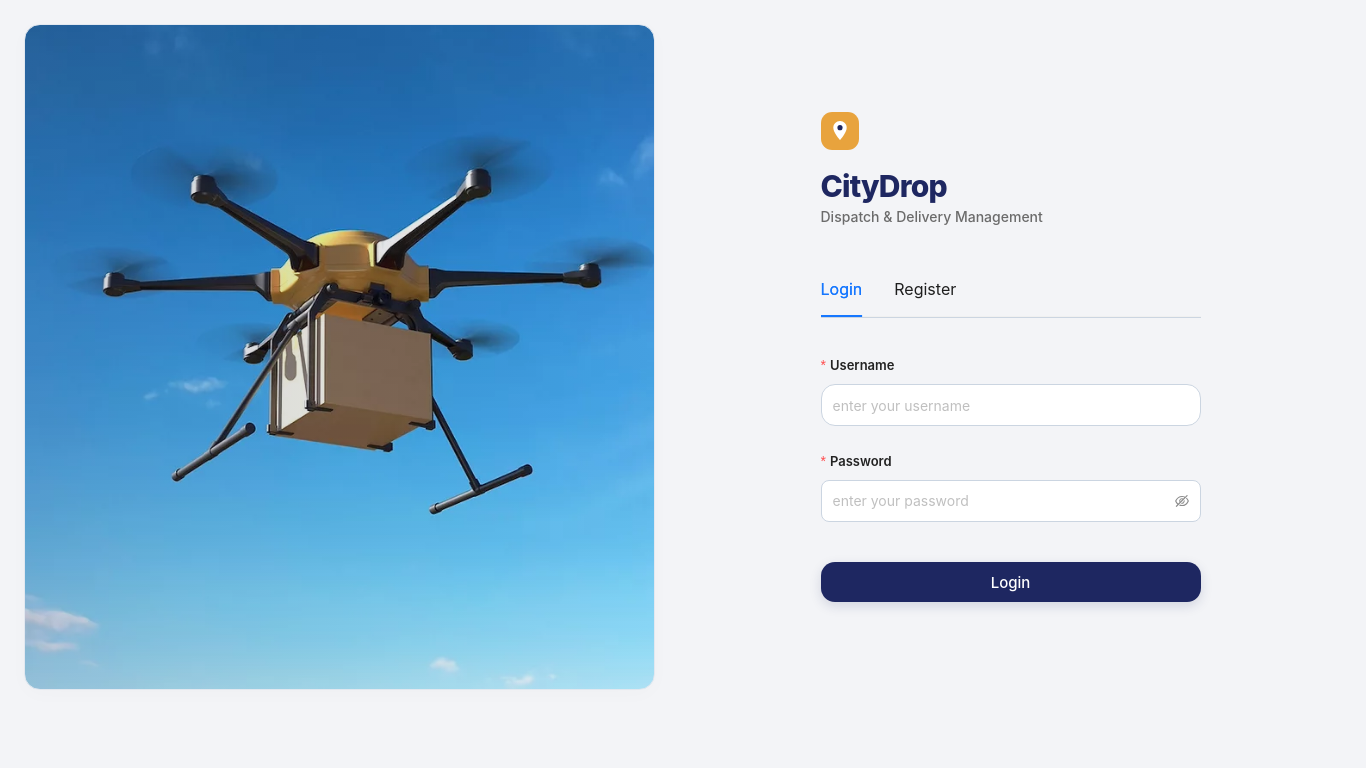
after registering, shows a confirmation and drops the user back on the Login tab
Click the tab "Register": click(925, 289) left=894, top=277, right=956, bottom=301
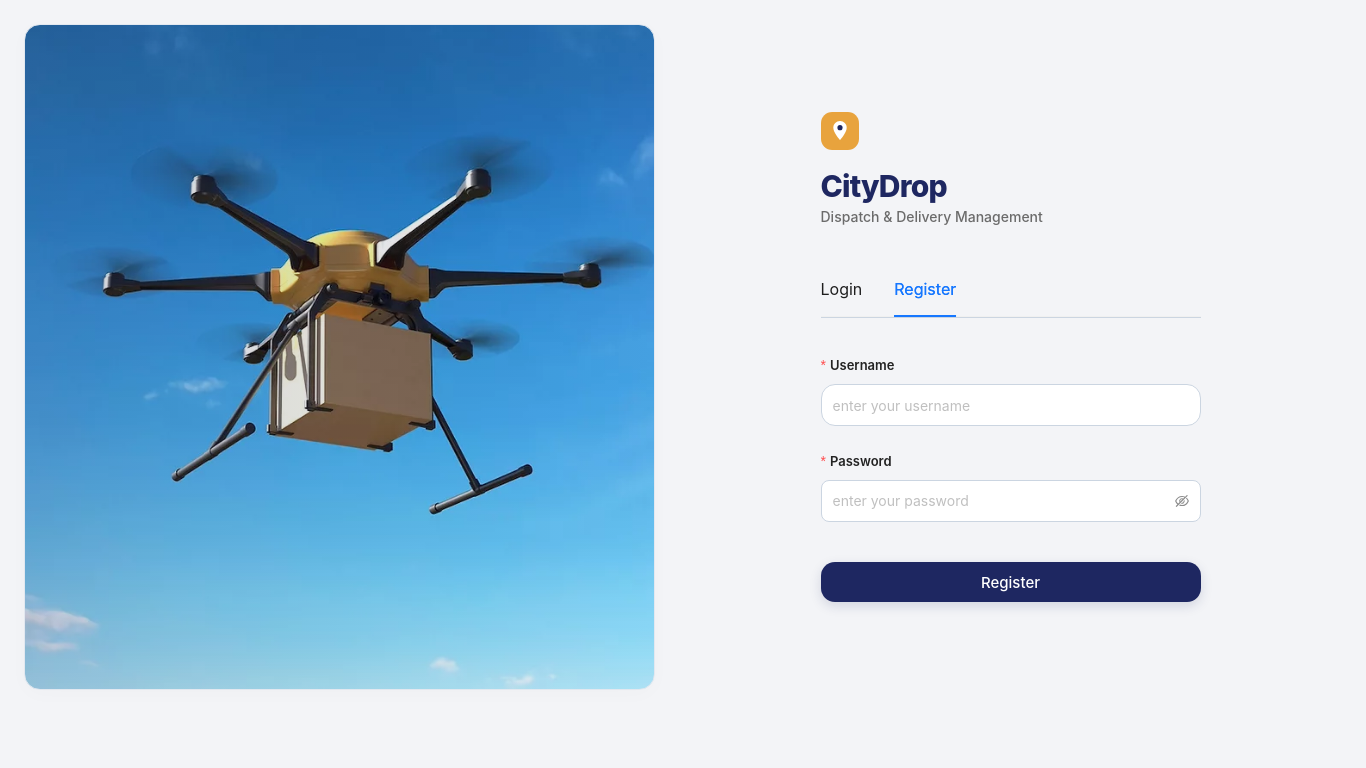
In the field with placeholder "enter your username": (1010, 405) left=820, top=384, right=1200, bottom=426, type "bob"
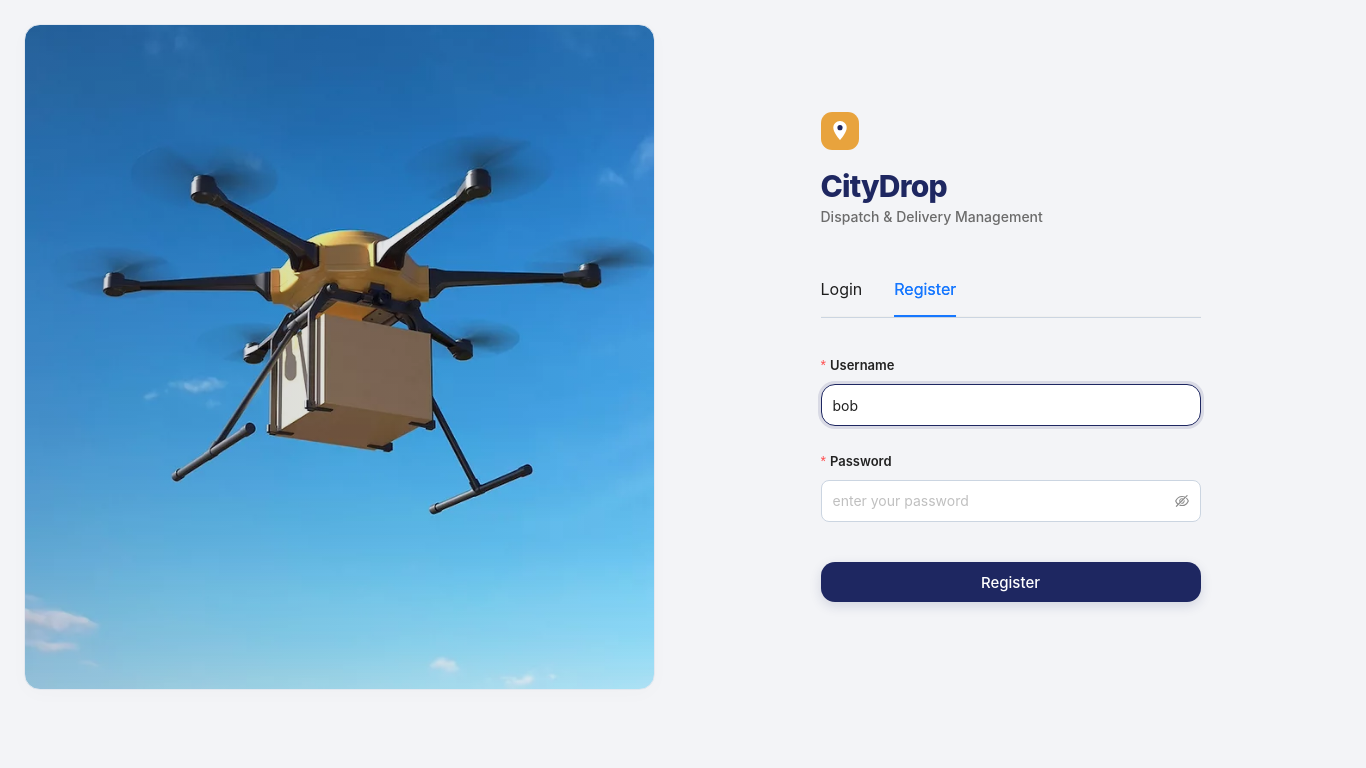
In the password field with placeholder "enter your password": (1002, 501) left=832, top=485, right=1170, bottom=517, type "pw123456"
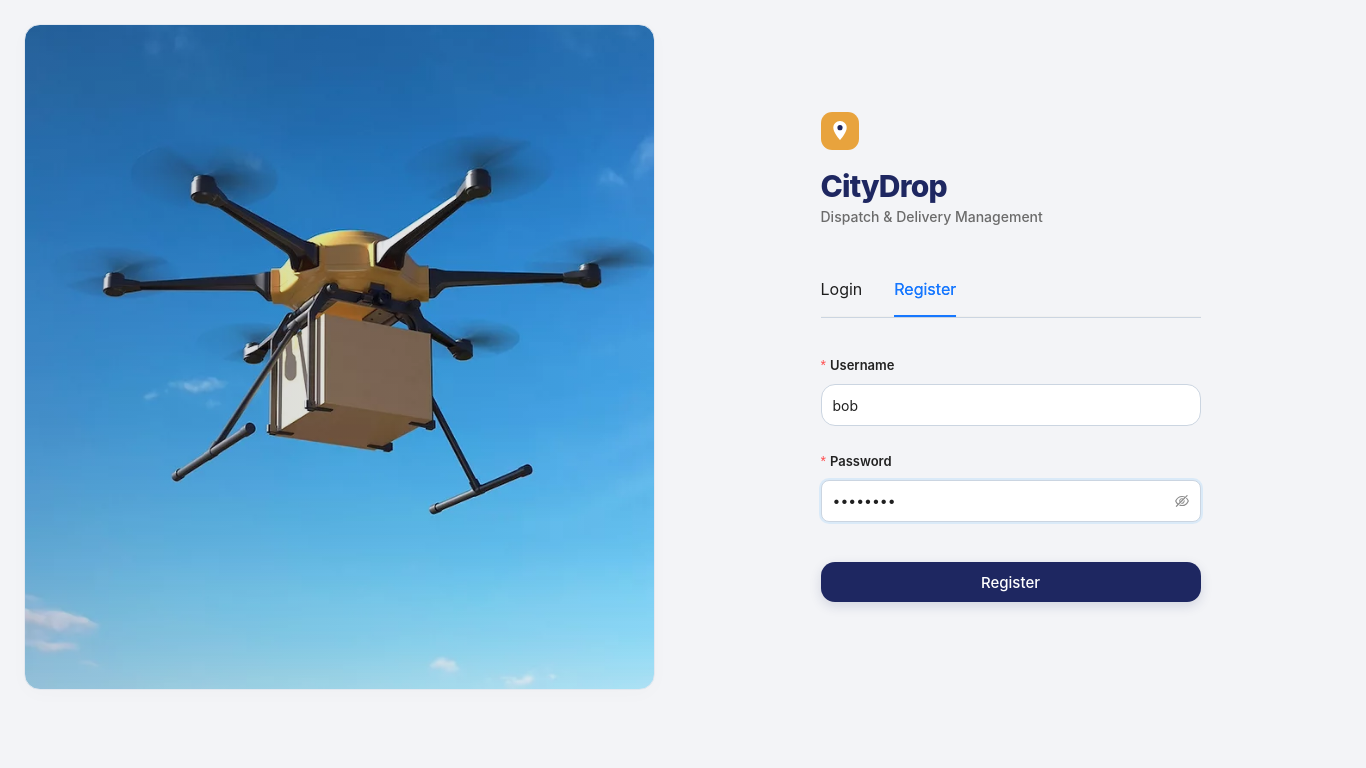
Click the button "Register": click(1010, 582) left=820, top=562, right=1200, bottom=602
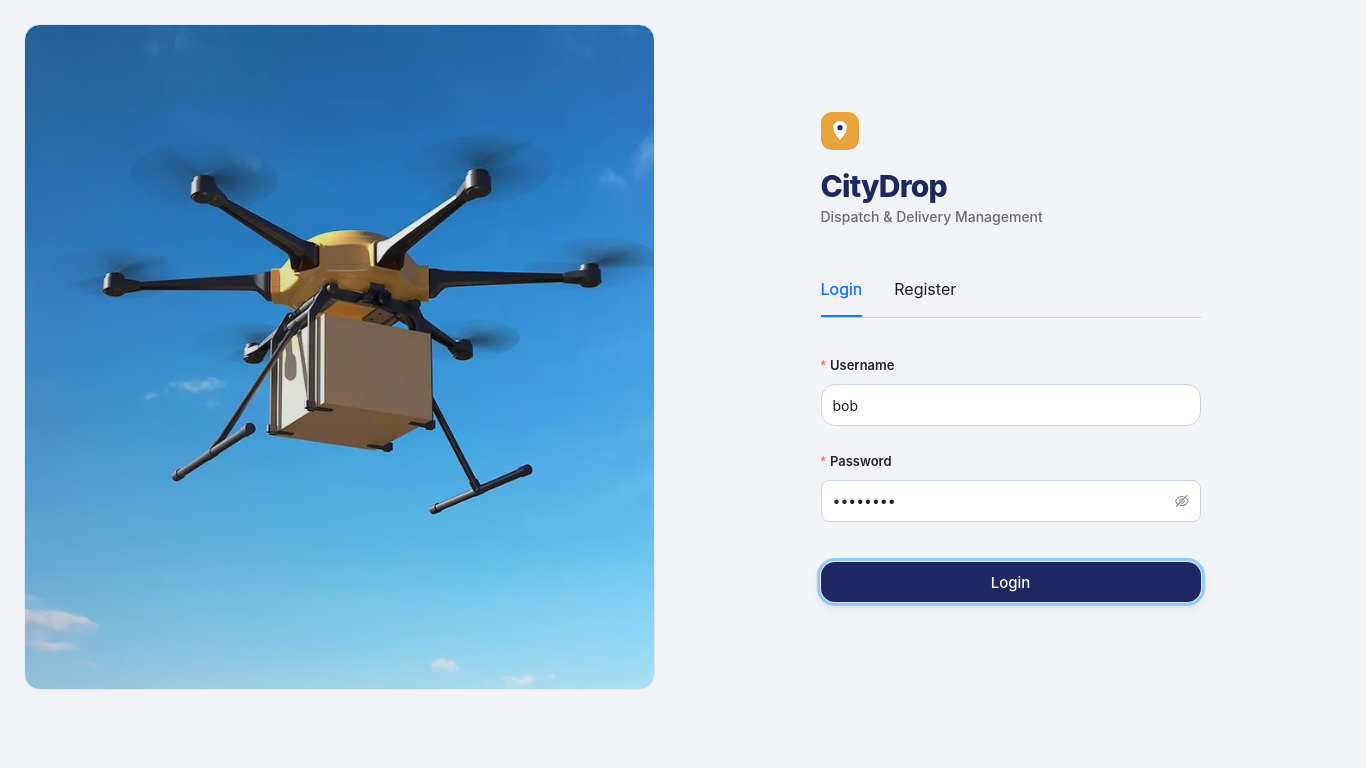
Result: the button "Login" is shown at left=820, top=562, right=1200, bottom=602
